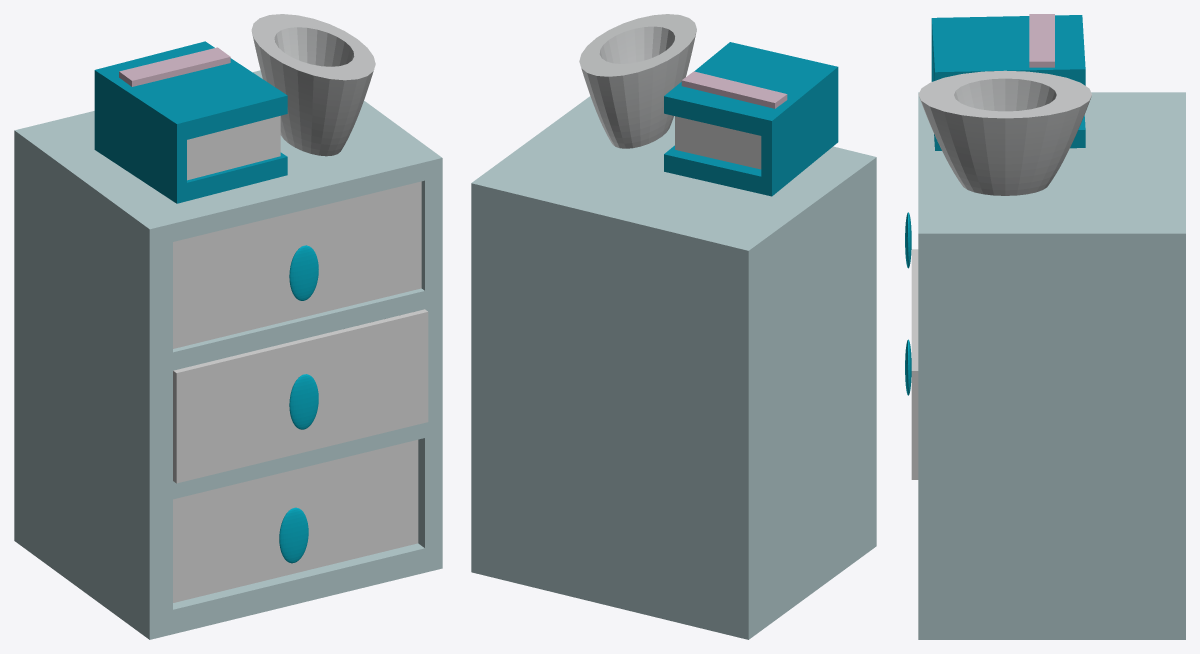
Rendered from Sizzling Jarv-Sango.glb.
3 renders of one model, left to right at view 1: azimuth 30°, elevation 25°; view 2: azimuth 150°, elevation 25°; view 3: azimuth 270°, elevation 25°, orthographic. The views are drawn at different scales.
Parts seen in each view (by area): view 1: Mesh_Mesh_head_geo.001_lambert2SG.001; view 2: Mesh_Mesh_head_geo.001_lambert2SG.001; view 3: Mesh_Mesh_head_geo.001_lambert2SG.001.
Boxes of the visible parts, x1,y1,x2,y2 form: Mesh_Mesh_head_geo.001_lambert2SG.001: (14, 14, 442, 639); Mesh_Mesh_head_geo.001_lambert2SG.001: (471, 14, 876, 639); Mesh_Mesh_head_geo.001_lambert2SG.001: (905, 14, 1185, 639).
Bounding box in the file's own units: 50 × 83.64 × 42.
